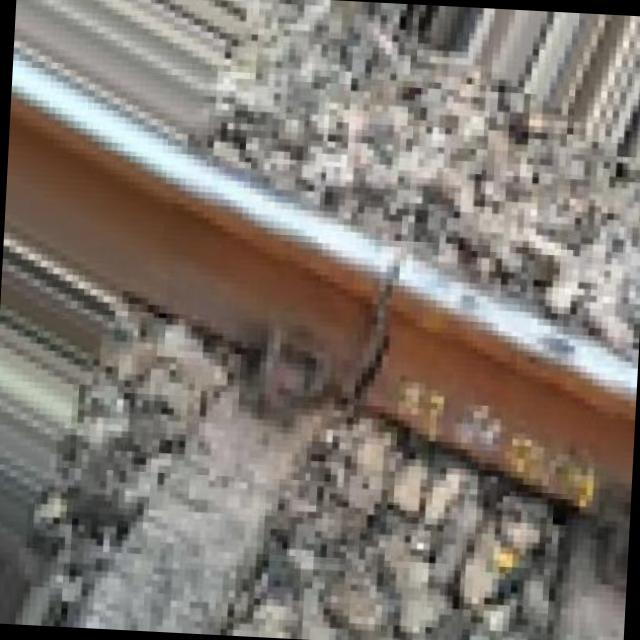defective: (14, 150, 624, 475)
